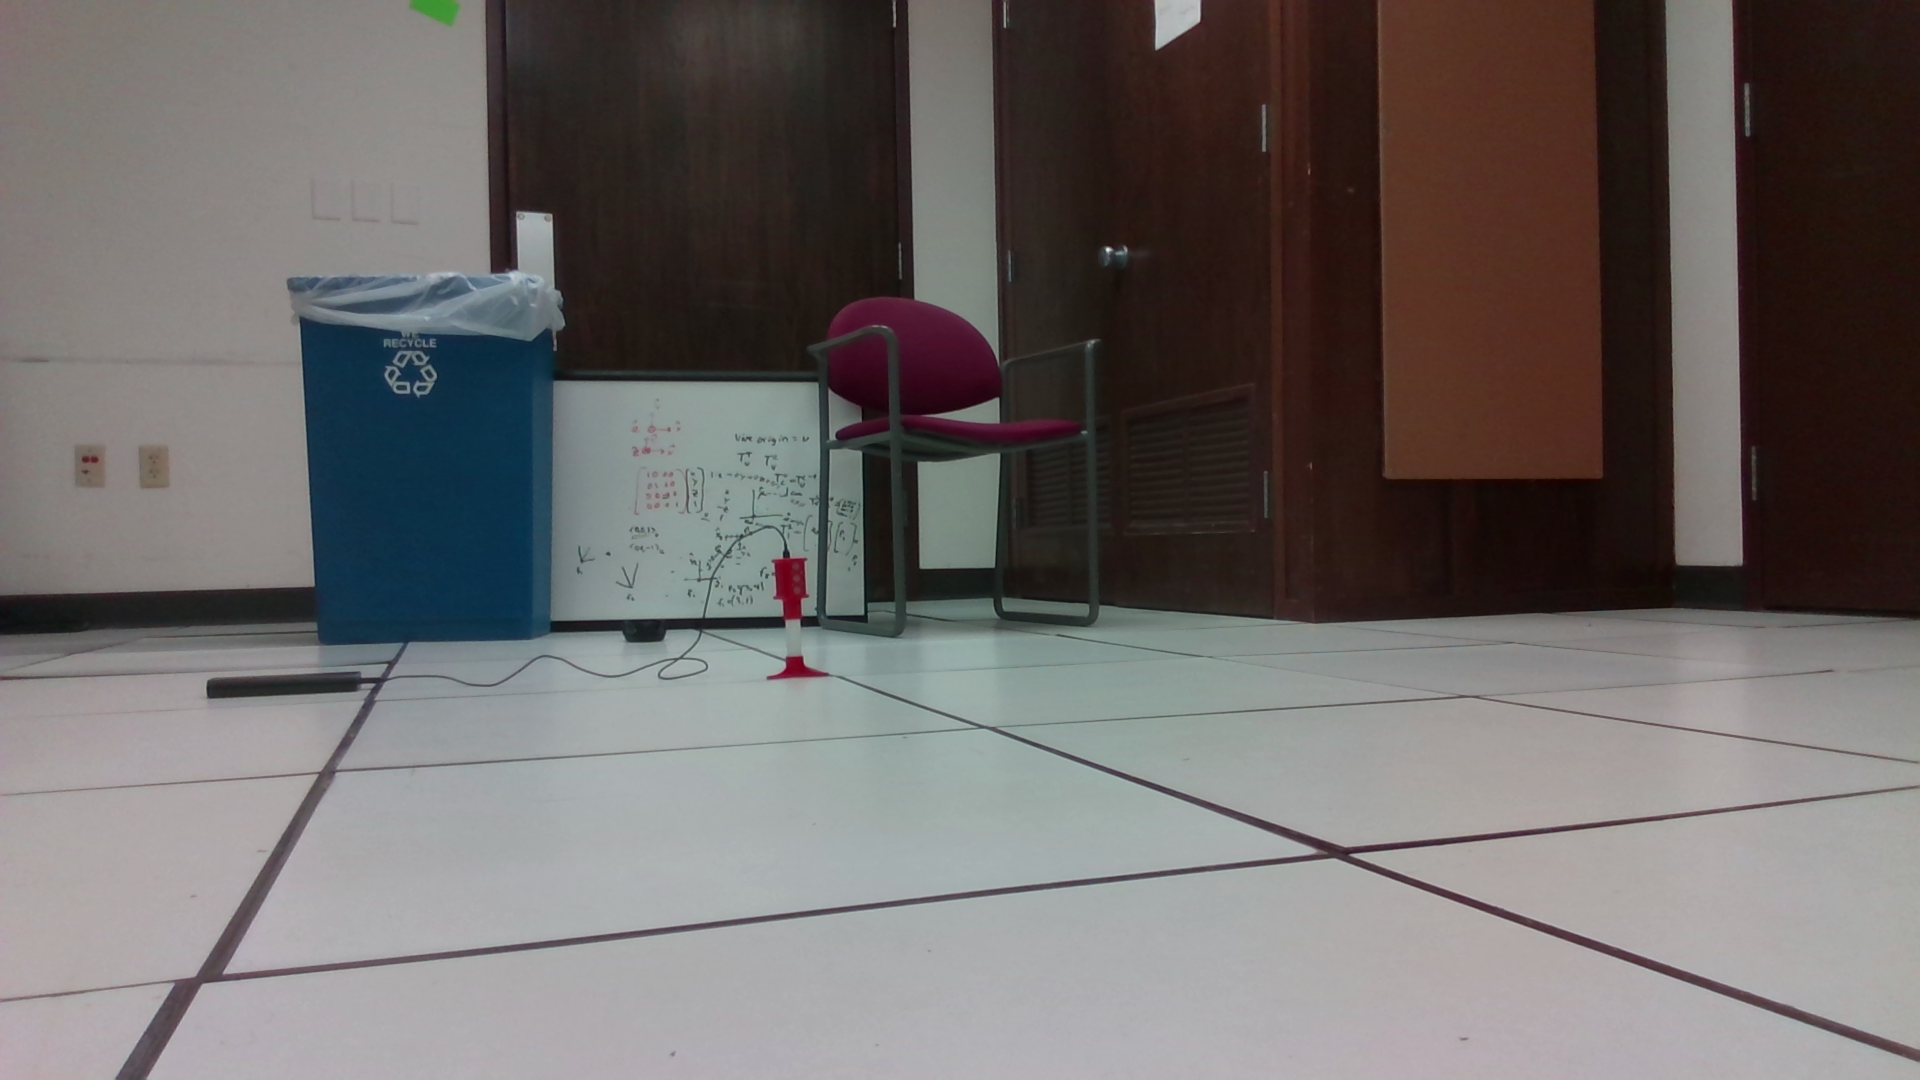stoplight: (775, 556, 814, 620)
